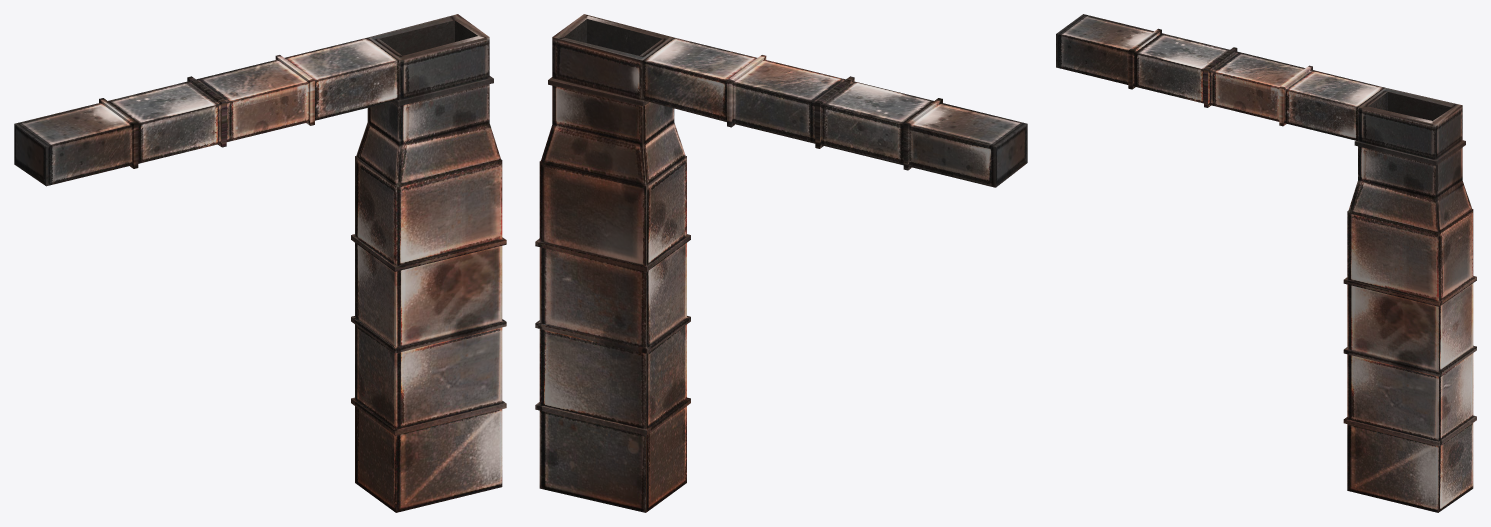
File: conduit_aeration 1.FBX
The picture shows the model from 3 angles, left to right: view 1: azimuth 30°, elevation 25°; view 2: azimuth 150°, elevation 25°; view 3: azimuth 330°, elevation 25°; orthographic projection. The views are drawn at different scales.
Visible parts, largest first — view 1: Conduit_Tourne; view 2: Conduit_Tourne; view 3: Conduit_Tourne.
Part boxes in pixels (x1,y1,x2,y2): Conduit_Tourne: (14, 14, 506, 512); Conduit_Tourne: (535, 14, 1027, 512); Conduit_Tourne: (1056, 14, 1476, 512).
Bounding box in the file's own units: 1393 × 1321 × 234.
